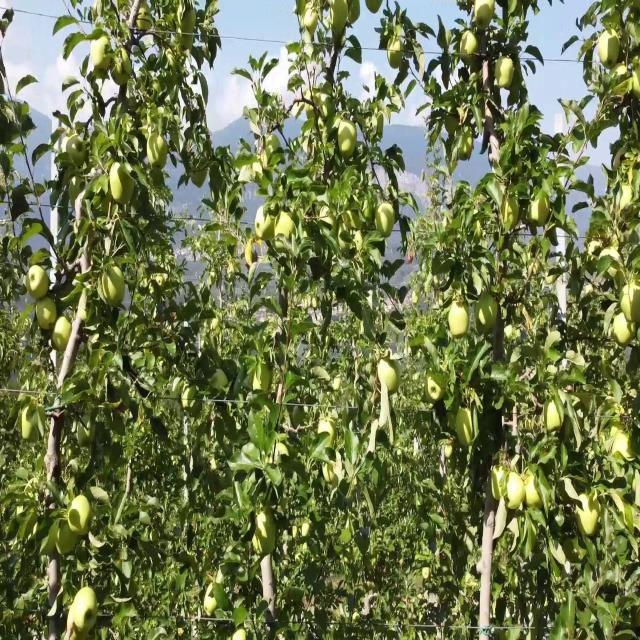apple: (112, 163, 136, 206), (612, 312, 640, 348), (68, 497, 92, 537), (104, 270, 127, 311), (76, 590, 99, 631), (92, 35, 113, 78), (56, 519, 80, 556), (576, 497, 599, 535), (600, 28, 620, 71), (256, 511, 275, 555), (36, 298, 59, 334), (476, 298, 499, 334), (620, 284, 640, 325), (112, 49, 133, 87), (340, 120, 358, 162), (52, 319, 72, 356), (28, 270, 51, 302), (448, 305, 469, 340), (20, 405, 39, 443), (148, 135, 169, 169), (532, 191, 551, 228), (616, 319, 640, 348), (496, 56, 515, 92), (376, 206, 396, 240), (524, 476, 544, 510), (612, 433, 635, 462), (612, 63, 631, 98), (380, 362, 400, 395), (544, 398, 563, 432), (504, 476, 524, 508), (276, 213, 296, 245), (476, 0, 496, 30), (256, 213, 276, 242), (460, 412, 475, 448), (616, 49, 631, 85), (492, 469, 509, 500), (460, 35, 478, 64), (504, 199, 520, 229), (44, 526, 59, 558), (388, 42, 404, 71), (320, 419, 336, 448), (180, 7, 196, 36), (332, 1, 348, 28), (428, 376, 443, 404), (460, 135, 474, 162), (304, 14, 320, 36), (136, 14, 152, 36), (152, 163, 164, 190), (192, 170, 208, 190), (448, 113, 460, 139), (332, 28, 346, 50), (248, 241, 259, 267), (204, 597, 217, 619), (72, 620, 87, 639), (624, 504, 634, 532), (508, 85, 520, 107), (348, 7, 360, 27), (632, 71, 640, 101), (624, 184, 633, 208), (348, 213, 361, 229), (328, 462, 337, 485), (364, 206, 375, 222), (368, 1, 381, 14), (380, 35, 391, 50), (164, 277, 171, 290), (160, 277, 167, 290), (636, 611, 640, 633), (212, 270, 218, 284), (304, 526, 309, 539), (296, 527, 300, 535)
